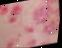plaque psoriasis: (39, 7, 61, 36), (32, 4, 53, 25), (10, 4, 23, 16), (42, 0, 58, 6), (25, 26, 36, 34), (25, 39, 36, 47), (37, 40, 51, 46), (0, 4, 7, 15), (7, 41, 17, 48), (8, 17, 17, 23)
